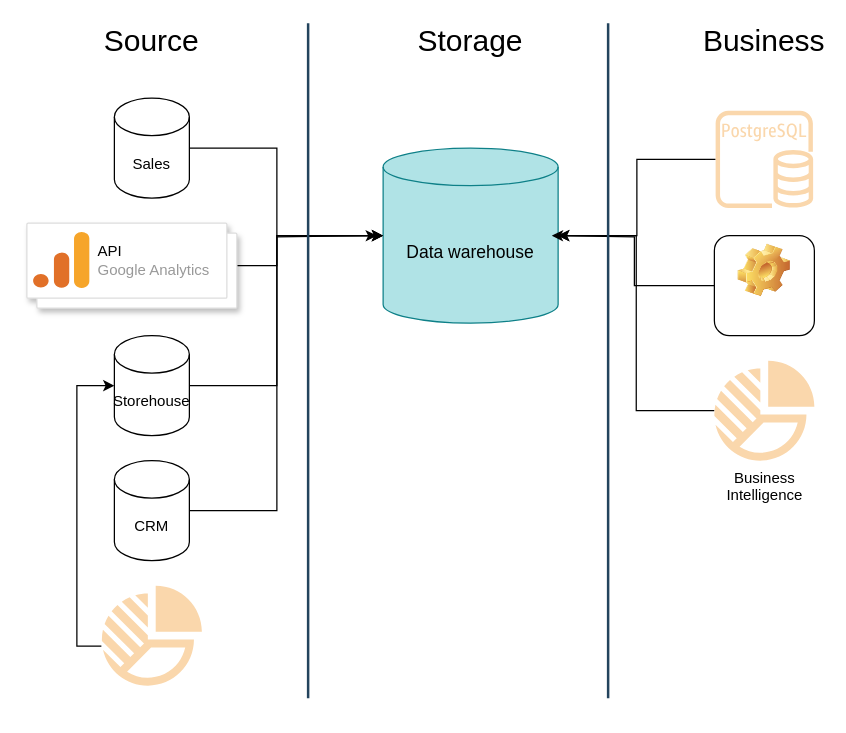
The diagram is 846 pixels wide and 733 high, and some of its shapes have lost their labels. Each missing label, with the centre of its shape:
"BI" goes at point 151,635.
"Excel" goes at point 763,285.
